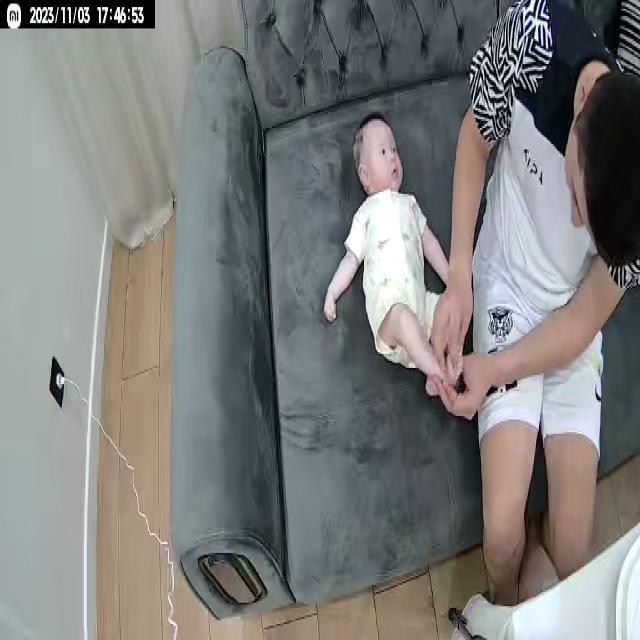baby: (321, 113, 464, 394)
